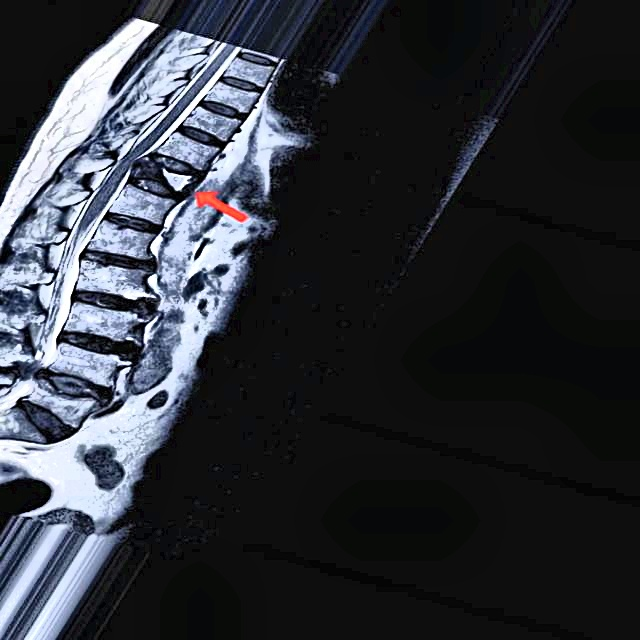Comminuted: (113, 141, 212, 209)
